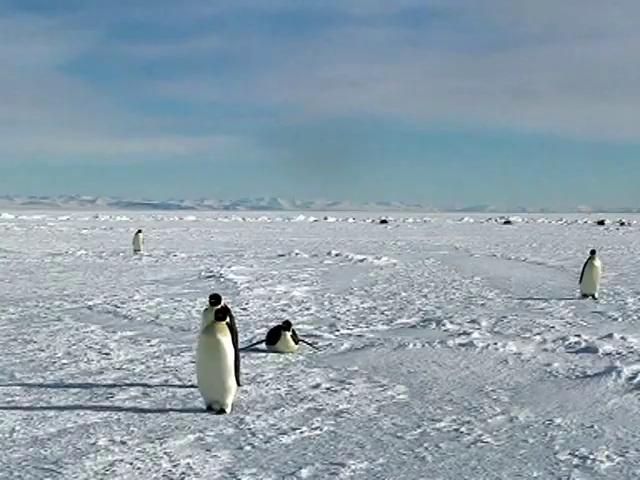animal: (241, 321, 319, 354)
